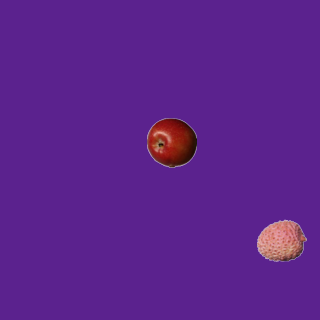Apple Braeburn: (146, 117, 196, 167)
Lychee: (256, 215, 306, 265)
